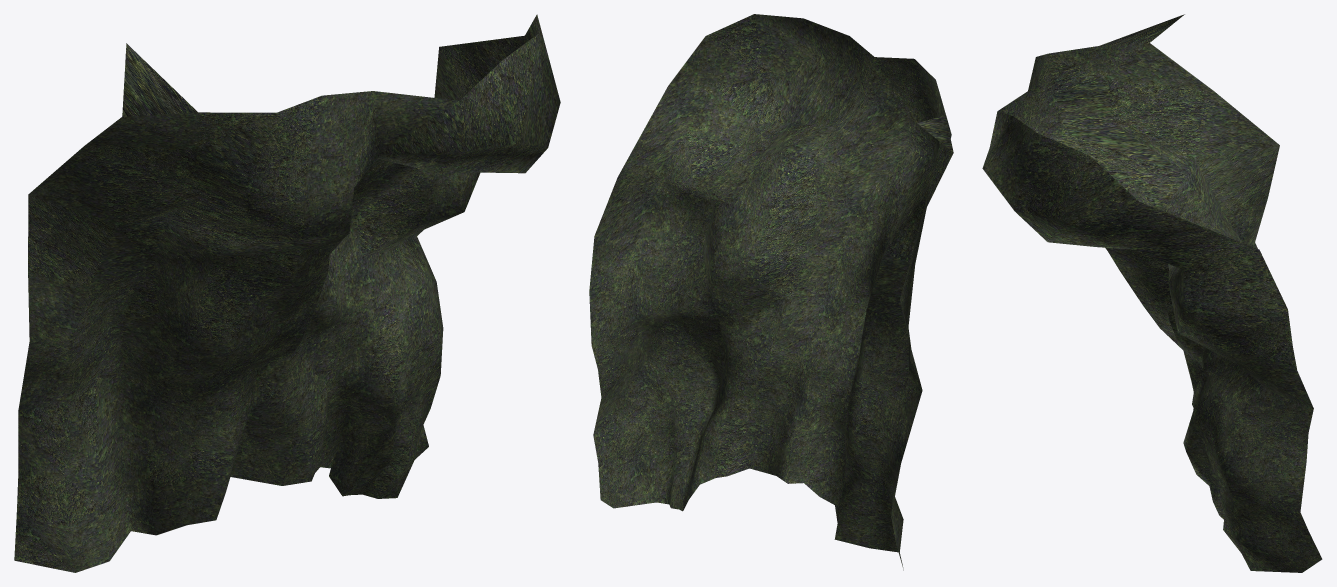
The model's file is cliff_wall_00.fbx.
3 views of the same model, side by side, from view 1: azimuth 30°, elevation 25°; view 2: azimuth 150°, elevation 25°; view 3: azimuth 270°, elevation 25° (orthographic). The views are drawn at different scales.
Visible parts, largest first — view 1: cliff_wall_00; view 2: cliff_wall_00; view 3: cliff_wall_00.
Boxes of the visible parts, <box> form: cliff_wall_00: <box>14,14,560,572</box>; cliff_wall_00: <box>589,14,953,570</box>; cliff_wall_00: <box>982,14,1322,572</box>.
Size of the model in its own units: 76.31 by 96.09 by 67.39.
